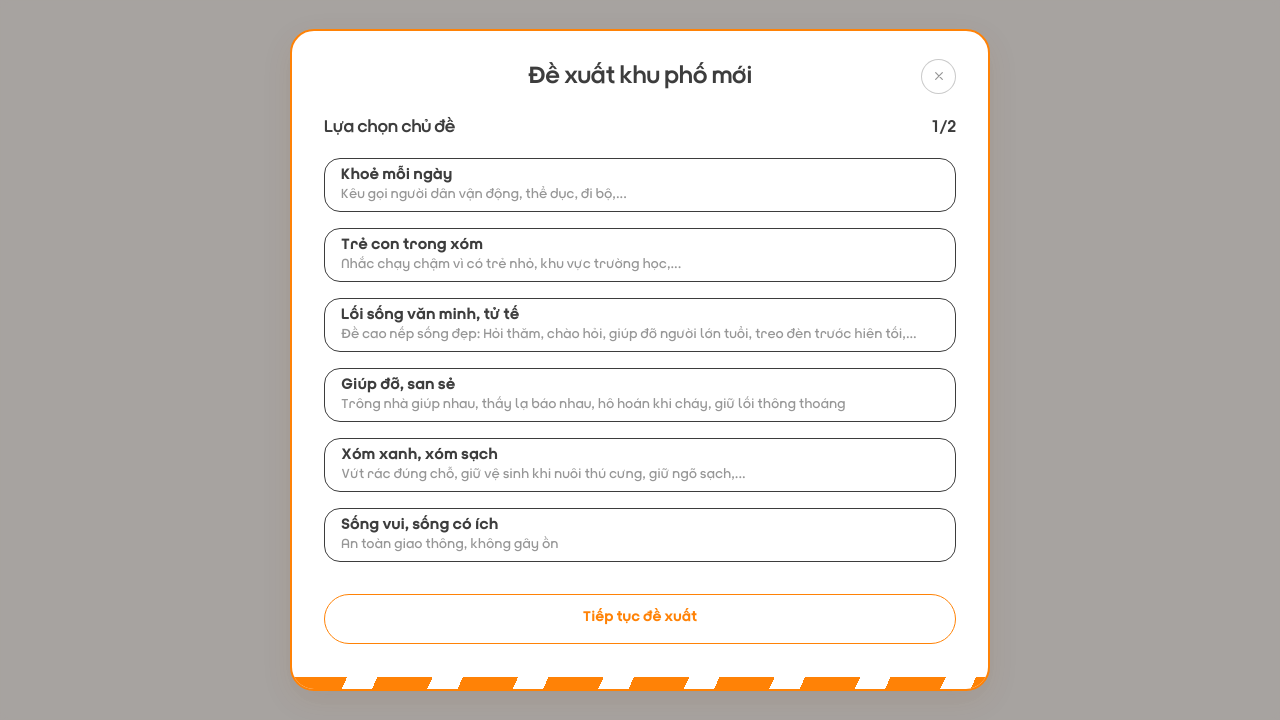
ProposeModal — bước 2/2 thông tin khu phố › hiện ĐÚNG 3 nhóm ô của design, đúng thứ tự
This screenshot has width=1280, height=720.
Step 1. Click the text "Trẻ con trong xóm" → click(412, 245), box 341,237 -> 483,253
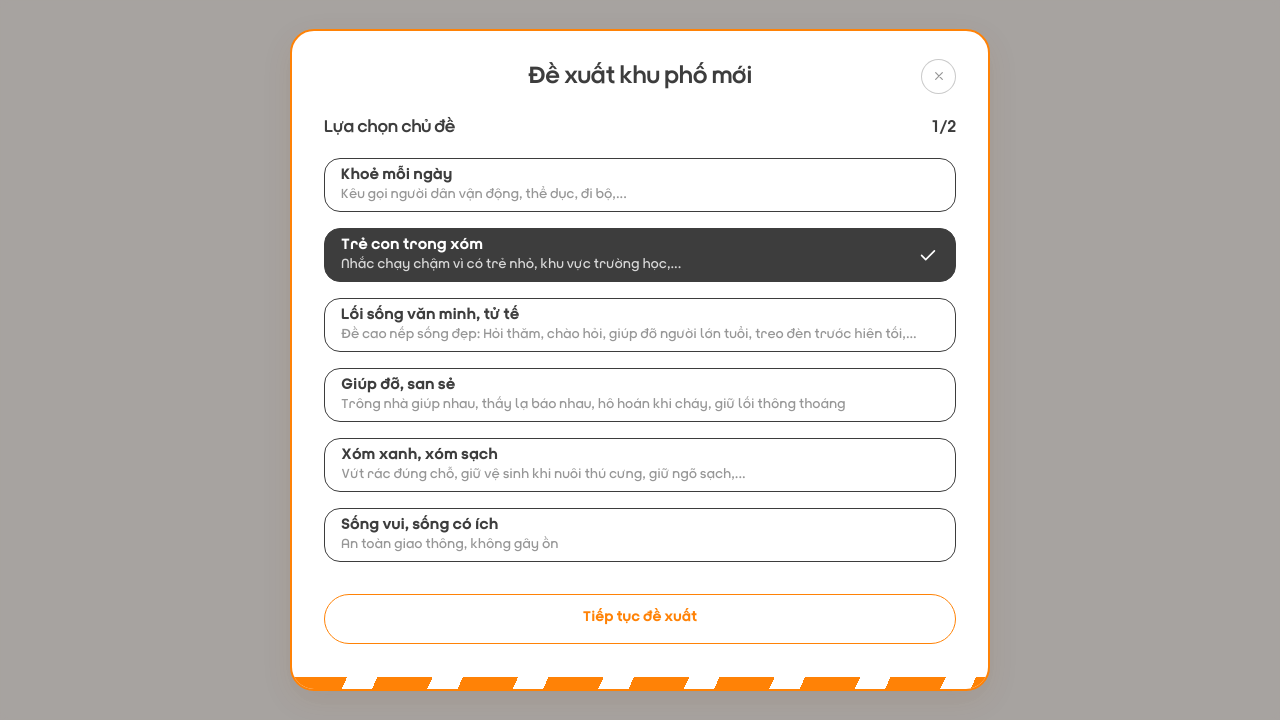
Step 2. Click the button "Tiếp tục đề xuất" → click(640, 619), box 324,594 -> 956,644
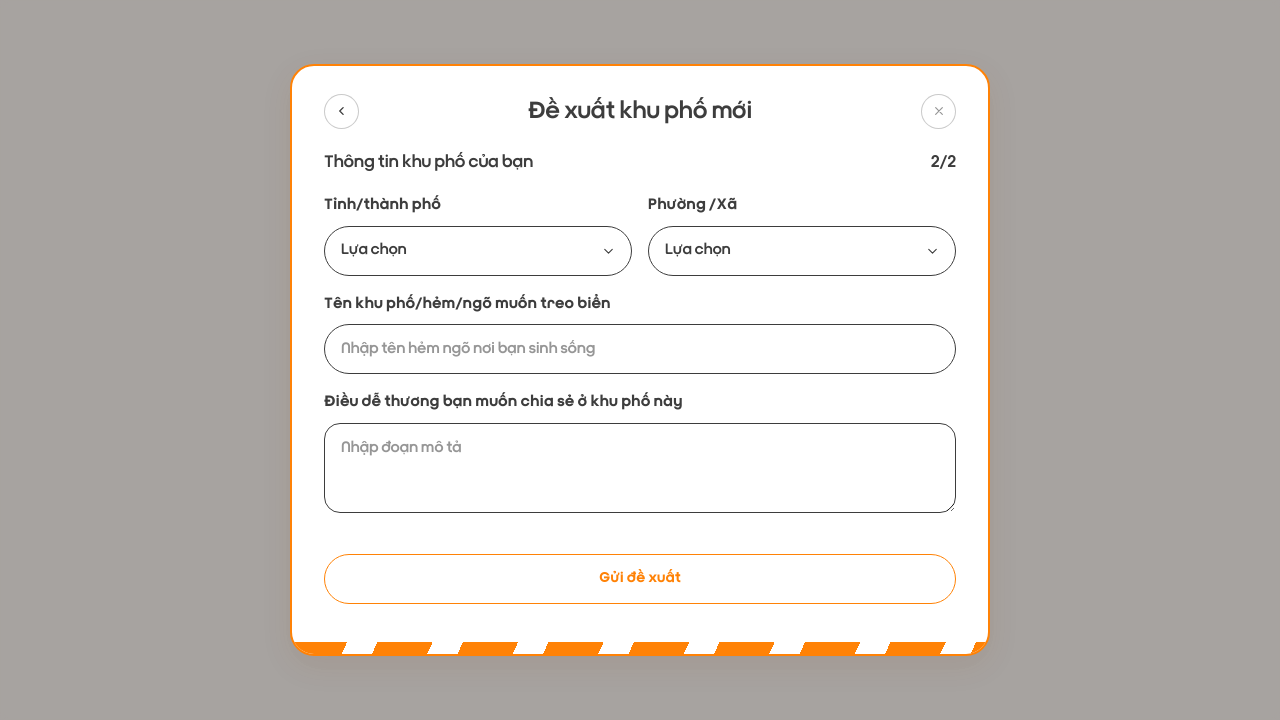
Check: the text "2/2" is shown, box 931,149 -> 956,177
